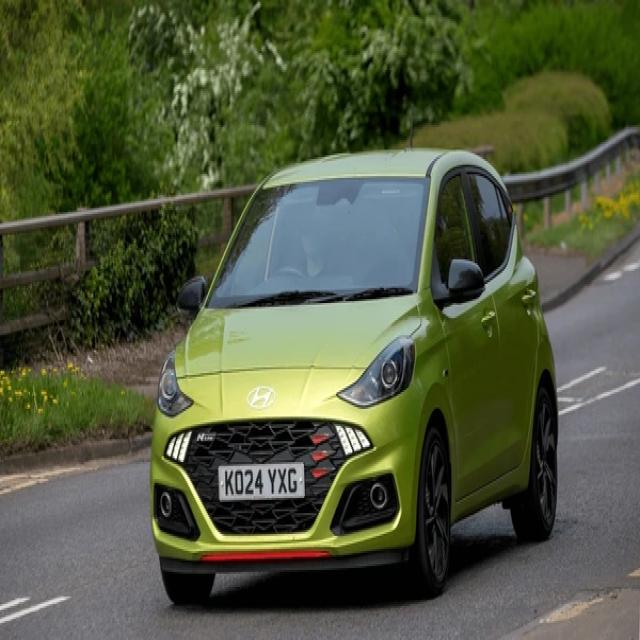hyundai: (245, 383, 278, 414)
